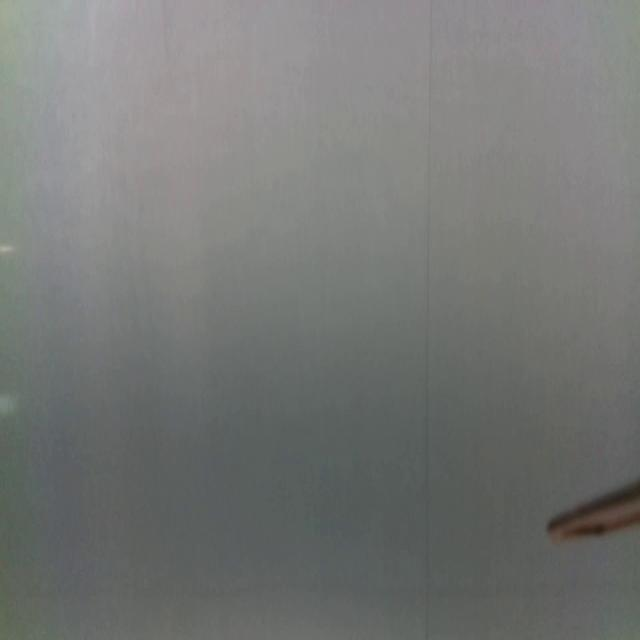crease: (423, 0, 435, 640), (158, 0, 171, 66)
